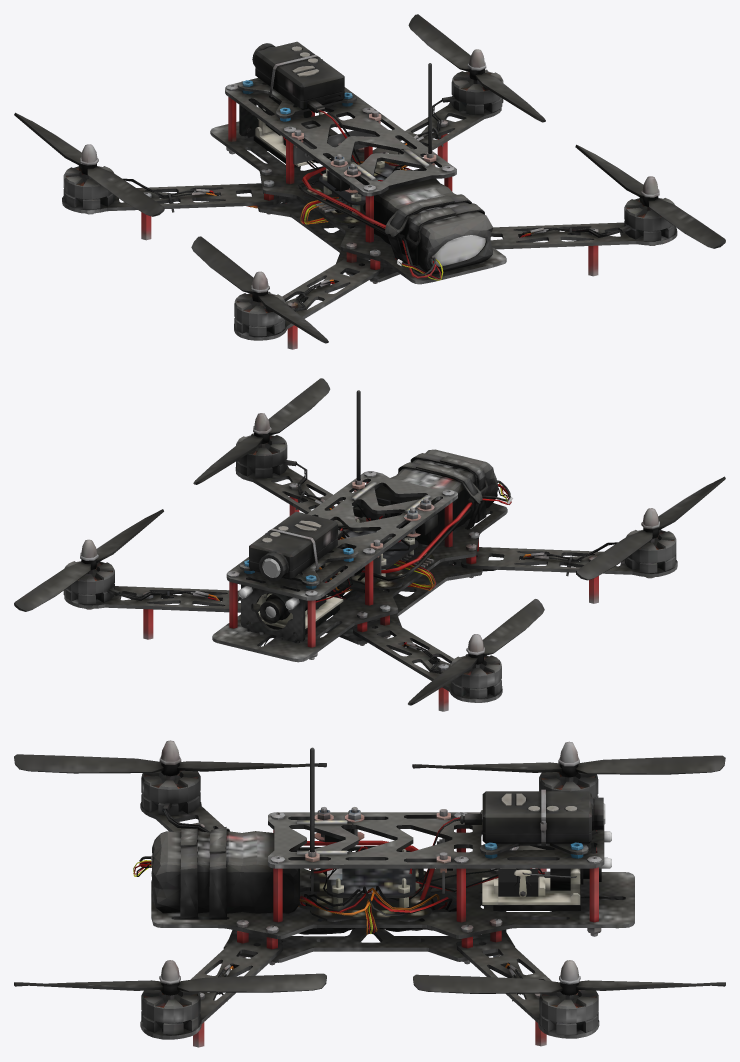
3 renders of one model, top to bottom at view 1: azimuth 30°, elevation 25°; view 2: azimuth 150°, elevation 25°; view 3: azimuth 270°, elevation 25°, orthographic. The views are drawn at different scales.
Parts seen in each view (by area): view 1: Drone01; view 2: Drone01; view 3: Drone01.
Part boxes in pixels (<box>): Drone01: <box>14,14,725,349</box>; Drone01: <box>14,378,725,711</box>; Drone01: <box>14,740,725,1047</box>.
Size of the model in its own units: 0.1296 by 0.0573 by 0.159.
1 material, 1 textured.
